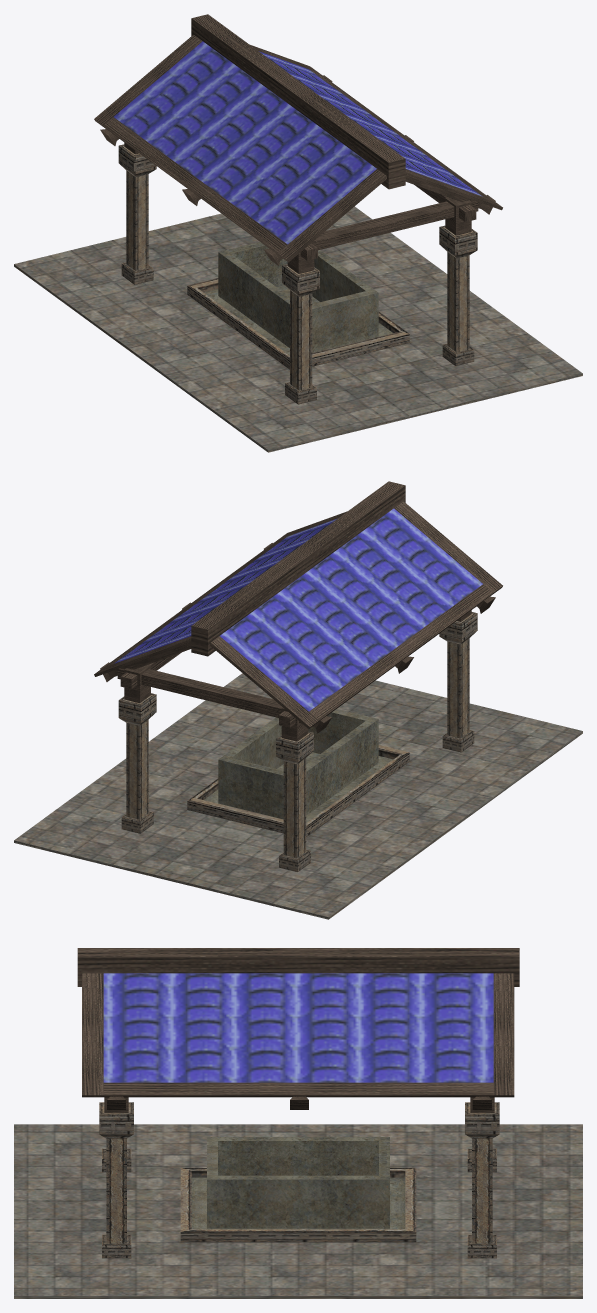
File: pocojp-b.fbx
The picture shows the model from 3 angles, top to bottom: view 1: azimuth 30°, elevation 25°; view 2: azimuth 150°, elevation 25°; view 3: azimuth 270°, elevation 25°; orthographic projection. The views are drawn at different scales.
Parts seen in each view (by area): view 1: Cube; view 2: Cube; view 3: Cube.
Part boxes in pixels (<box>): Cube: <box>14,14,582,452</box>; Cube: <box>14,481,582,919</box>; Cube: <box>14,948,582,1298</box>.
Bounding box in the file's own units: 4.32 × 3.05 × 6.05.
